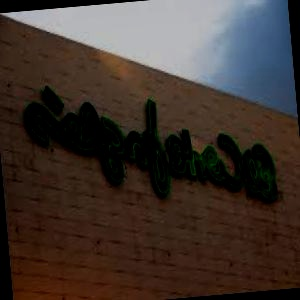corte_ingles: (274, 113, 300, 177)
